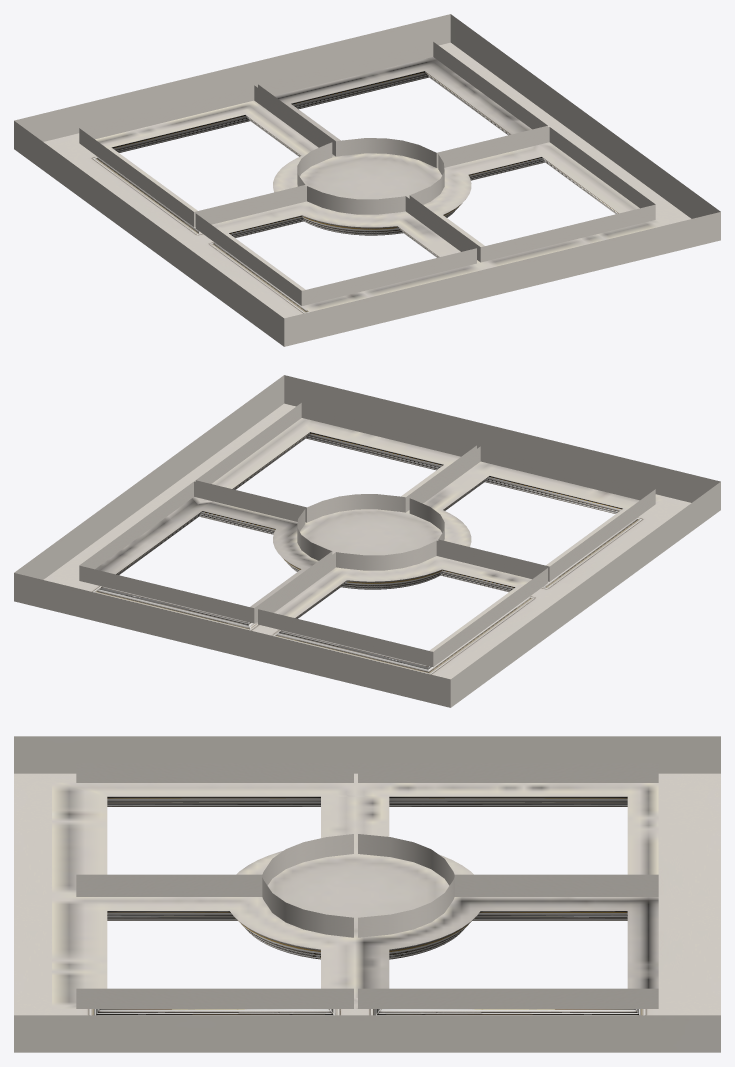
The model's file is Room02_Roof.FBX.
3 renders of one model, top to bottom at view 1: azimuth 30°, elevation 25°; view 2: azimuth 150°, elevation 25°; view 3: azimuth 270°, elevation 25°, orthographic. The views are drawn at different scales.
Parts seen in each view (by area): view 1: Room02_Roof; view 2: Room02_Roof; view 3: Room02_Roof.
Part boxes in pixels (left/top/right/bottom): Room02_Roof: left=14, top=14, right=720, bottom=346; Room02_Roof: left=14, top=375, right=720, bottom=707; Room02_Roof: left=14, top=736, right=720, bottom=1052.
Size of the model in its own units: 1060 by 1136 by 97.89.
